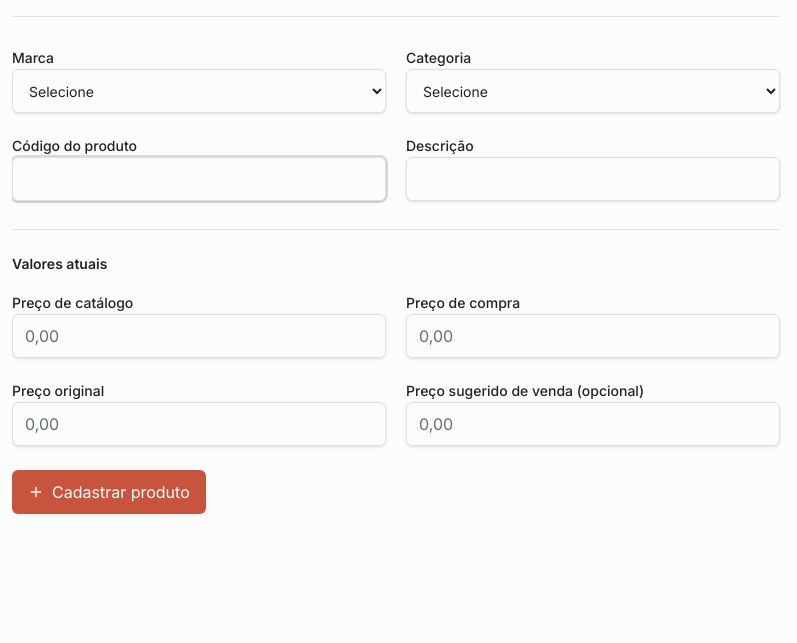
Scenario: CreateProductForm › validates required fields before contacting the API
Click the button "Cadastrar produto".
click(109, 492)  # box [12,470,206,514]
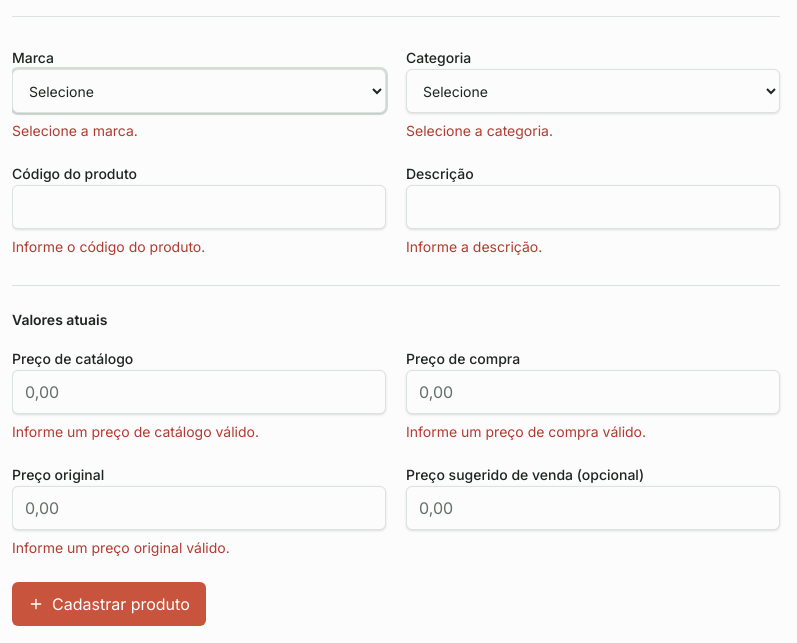
Now the text "Selecione a marca." is shown, box [12,122,138,139]
Now the text "Selecione a categoria." is shown, box [406,122,553,139]
Now the text "Informe o código do produto." is shown, box [12,238,205,255]
